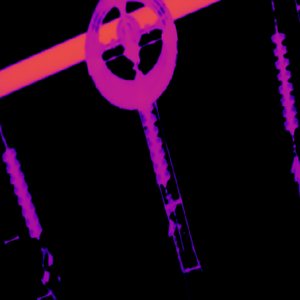insulator: (1, 146, 42, 238), (270, 30, 298, 135), (138, 103, 170, 185)
